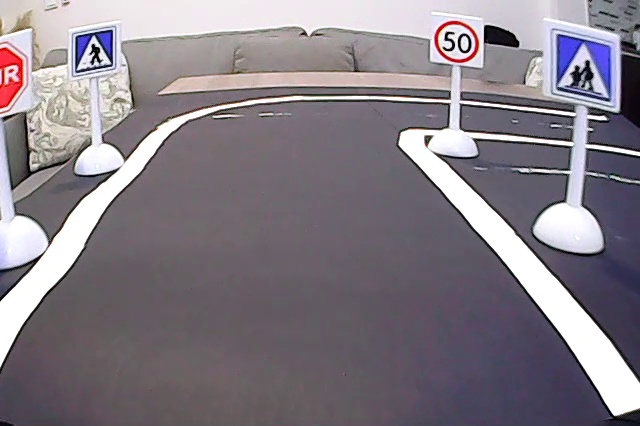pedestrian crossing: (69, 28, 120, 76)
school crossing: (550, 29, 616, 109)
speed limit 50: (435, 16, 481, 63)
stop sign: (1, 29, 34, 119)
